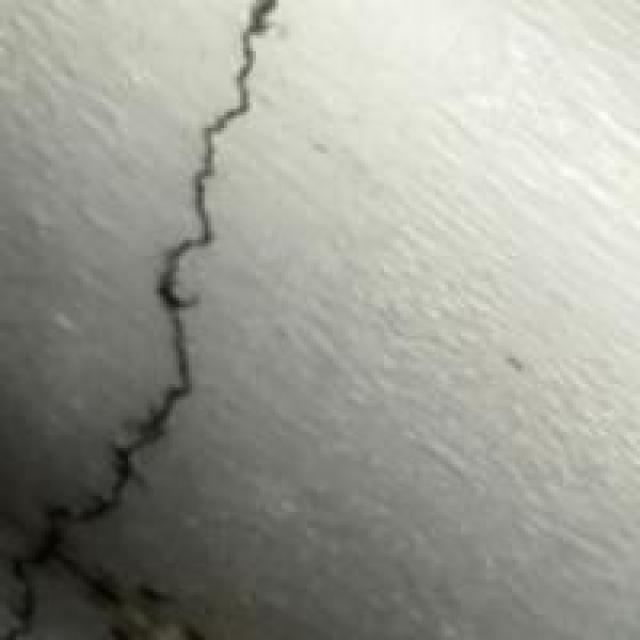Crack: (46, 0, 331, 582)
